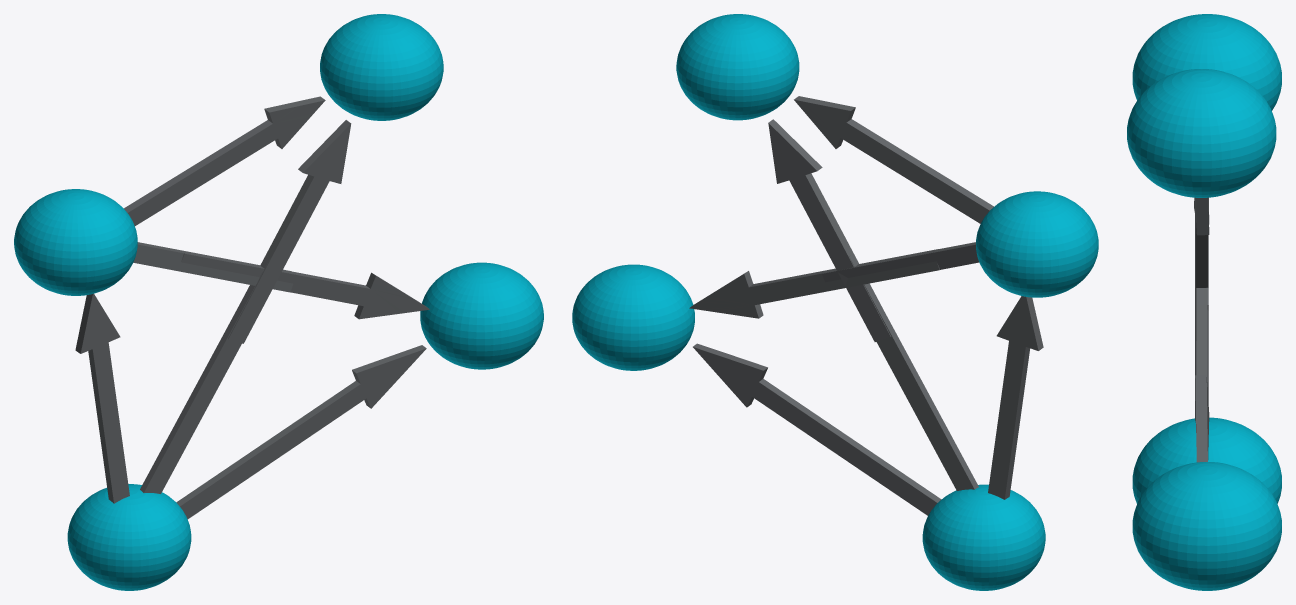
File: Brave Leelo-Luulia.glb
The picture shows the model from 3 angles, left to right: view 1: azimuth 30°, elevation 25°; view 2: azimuth 150°, elevation 25°; view 3: azimuth 270°, elevation 25°; orthographic projection. The views are drawn at different scales.
Visible parts, largest first — view 1: Mesh_Mesh_head_geo.001_lambert2SG.001; view 2: Mesh_Mesh_head_geo.001_lambert2SG.001; view 3: Mesh_Mesh_head_geo.001_lambert2SG.001.
Boxes of the visible parts, x1,y1,x2,y2 form: Mesh_Mesh_head_geo.001_lambert2SG.001: [14, 14, 543, 590]; Mesh_Mesh_head_geo.001_lambert2SG.001: [572, 14, 1098, 590]; Mesh_Mesh_head_geo.001_lambert2SG.001: [1127, 14, 1281, 590].
Bounding box in the file's own units: 115 × 108 × 24.91.
